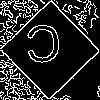C: (25, 25, 62, 72)
